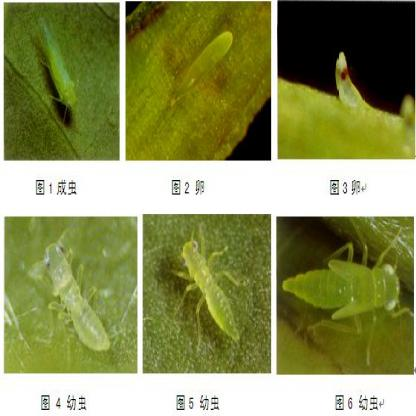Green-Leafhopper: (282, 235, 402, 340), (42, 231, 112, 355), (172, 229, 243, 344), (334, 53, 413, 137), (169, 28, 234, 106), (36, 16, 79, 132)
